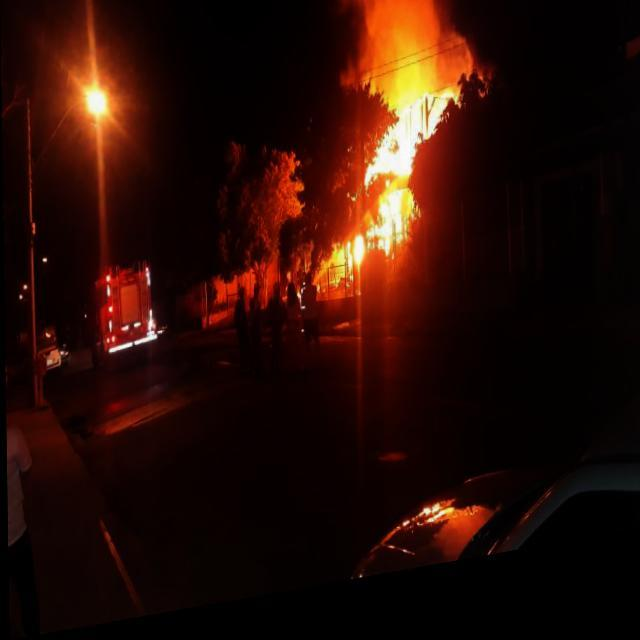Fire: (310, 0, 492, 310)
